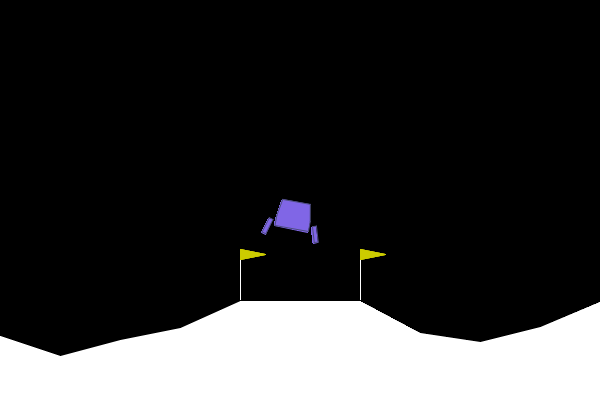lander: (260, 195, 326, 245)
